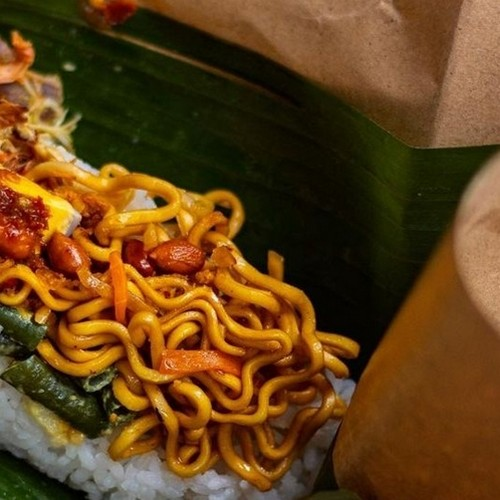nasi jinggo: (7, 83, 314, 498)
